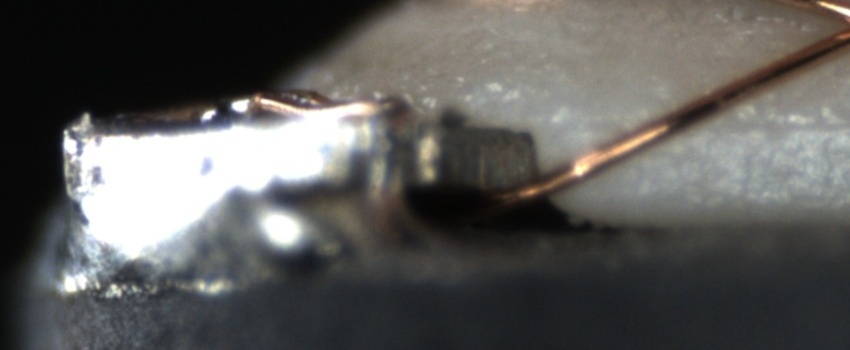DL: (576, 101, 849, 155)
TE: (196, 87, 395, 126)
